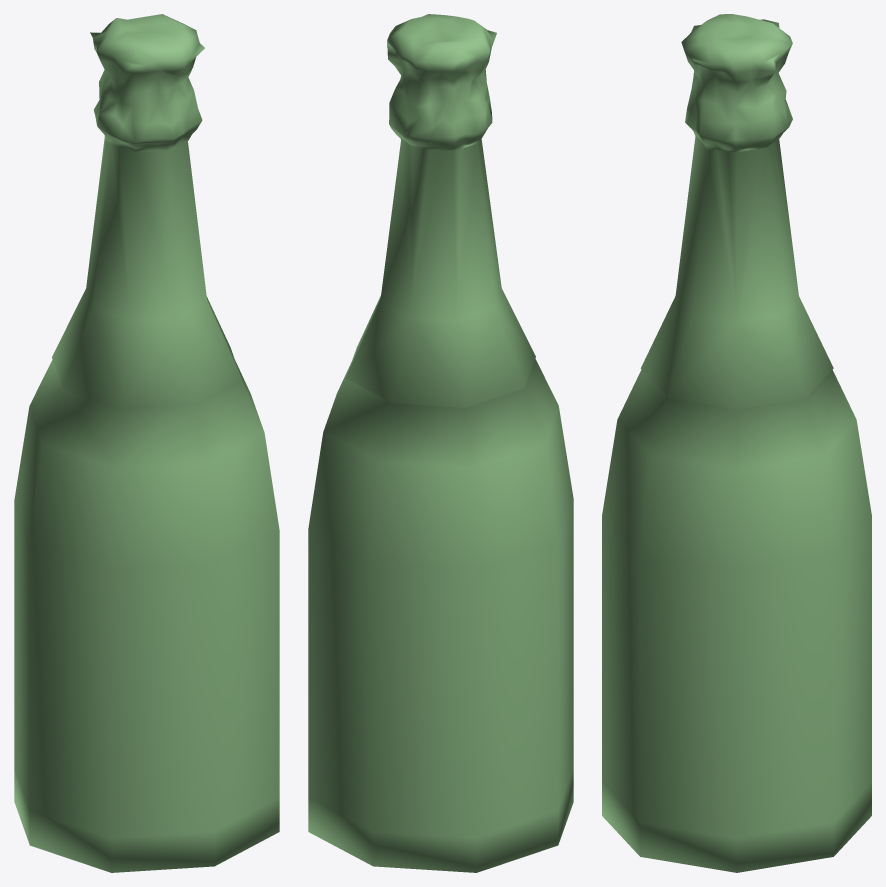
File: ChampagneBottle.dae
3 views of the same model, side by side, from view 1: azimuth 30°, elevation 25°; view 2: azimuth 150°, elevation 25°; view 3: azimuth 270°, elevation 25° (orthographic).
Parts seen in each view (by area): view 1: Bottle; view 2: Bottle; view 3: Bottle.
Boxes of the visible parts, x1,y1,x2,y2 form: Bottle: [14, 14, 279, 872]; Bottle: [308, 14, 573, 872]; Bottle: [602, 14, 871, 872].
Bounding box in the file's own units: 0.6141 × 0.6141 × 1.98.
